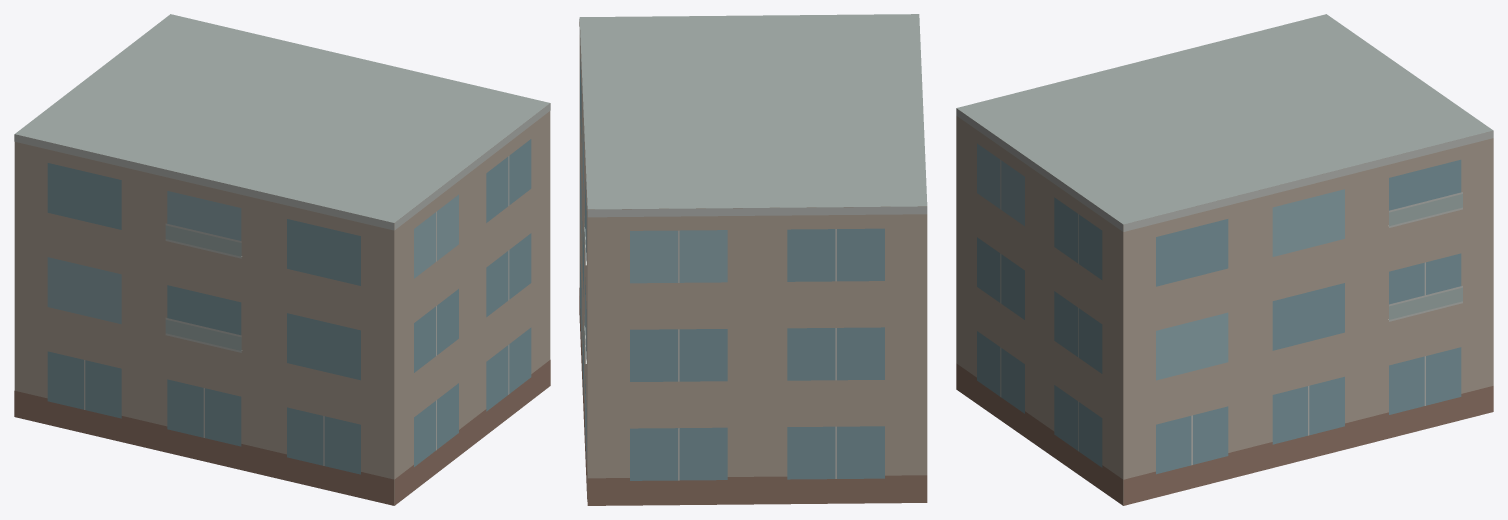
Rendered from survey-upis-32713777.glb.
3 views of the same model, side by side, from view 1: azimuth 30°, elevation 25°; view 2: azimuth 150°, elevation 25°; view 3: azimuth 270°, elevation 25° (orthographic). The views are drawn at different scales.
Visible parts, largest first — view 1: survey-upis-32713777.tmp; view 2: survey-upis-32713777.tmp; view 3: survey-upis-32713777.tmp.
Boxes of the visible parts, x1,y1,x2,y2 form: survey-upis-32713777.tmp: (14,14,550,505); survey-upis-32713777.tmp: (579,14,927,505); survey-upis-32713777.tmp: (956,14,1493,505).
Bounding box in the file's own units: 14.7 × 9.15 × 15.85.
